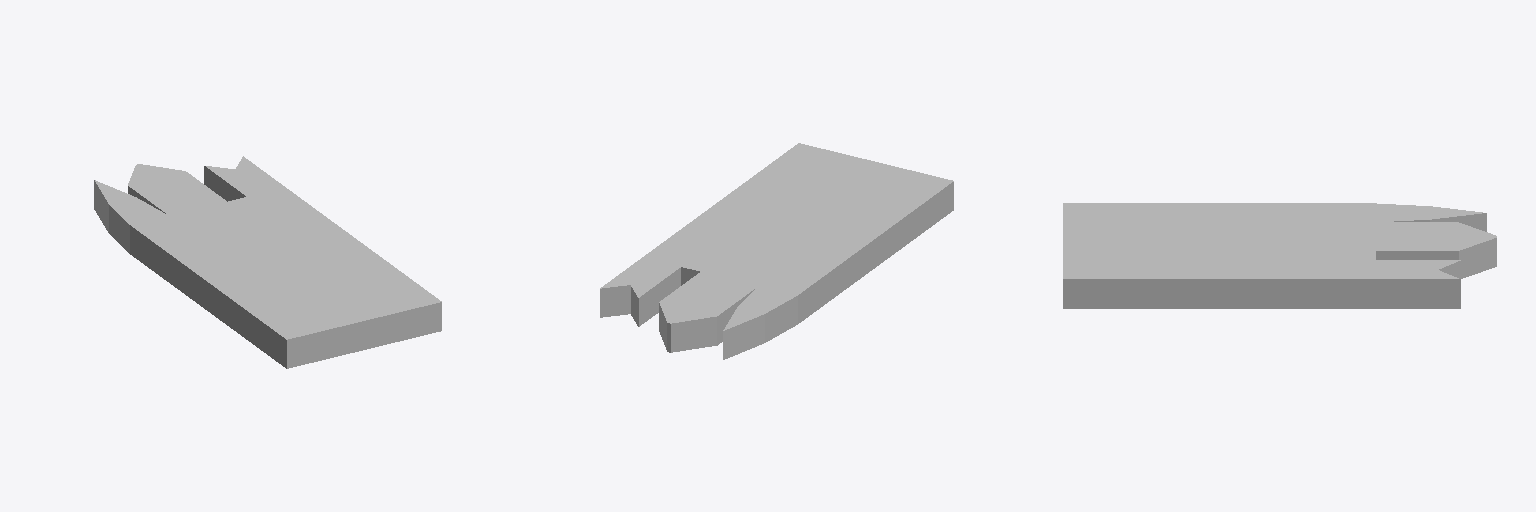
The model's file is platform.obj.
3 views of the same model, side by side, from view 1: azimuth 30°, elevation 25°; view 2: azimuth 150°, elevation 25°; view 3: azimuth 270°, elevation 25° (orthographic).
Parts seen in each view (by area): view 1: pCube1; view 2: pCube1; view 3: pCube1.
Part boxes in pixels (x1,y1,x2,y2): pCube1: (94,156,441,368); pCube1: (600,143,953,359); pCube1: (1063,203,1496,308).
Bounding box in the file's own units: 4.88 × 0.8735 × 11.79.